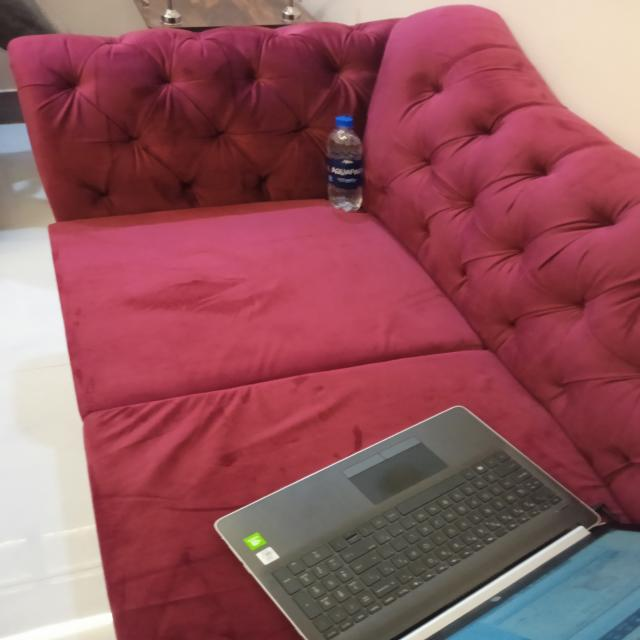Plastic: (321, 110, 368, 213)
